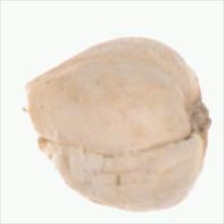L3: (25, 79, 47, 152)
L4: (26, 37, 211, 211)
